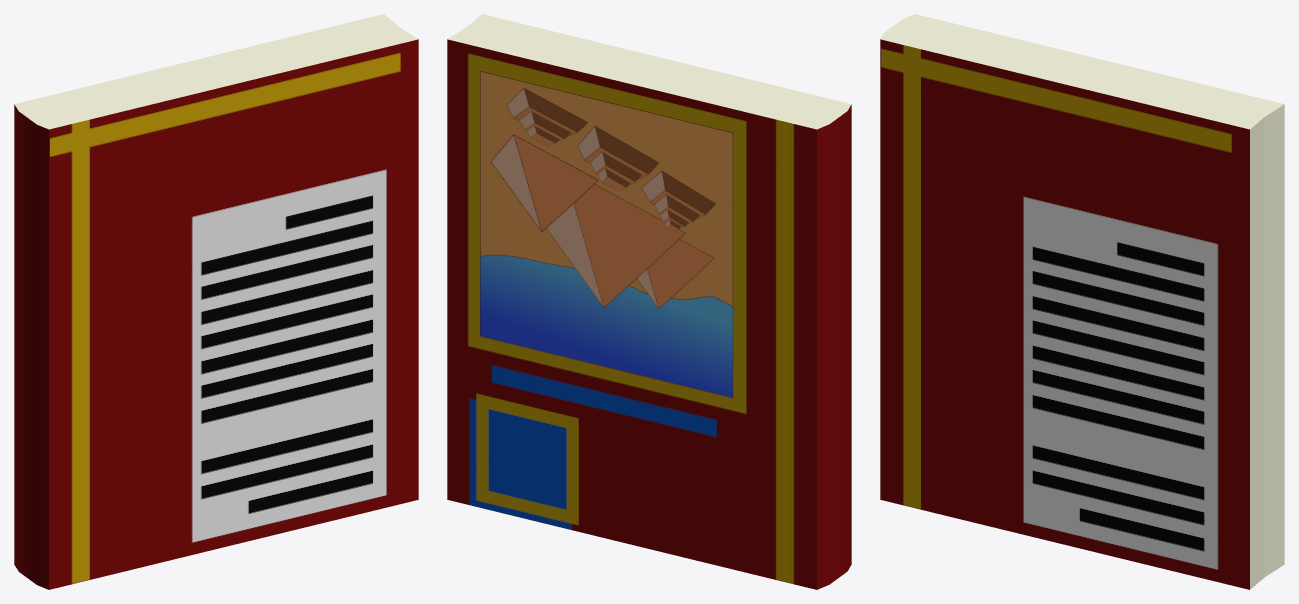
File: History_Book.fbx
The picture shows the model from 3 angles, left to right: view 1: azimuth 30°, elevation 25°; view 2: azimuth 150°, elevation 25°; view 3: azimuth 330°, elevation 25°; orthographic projection.
Visible parts, largest first — view 1: History_Book; view 2: History_Book; view 3: History_Book.
Boxes of the visible parts, <box> form: History_Book: <box>14,14,418,589</box>; History_Book: <box>447,14,851,589</box>; History_Book: <box>880,14,1284,589</box>.
Bounding box in the file's own units: 0.2548 × 0.3 × 0.0409.
